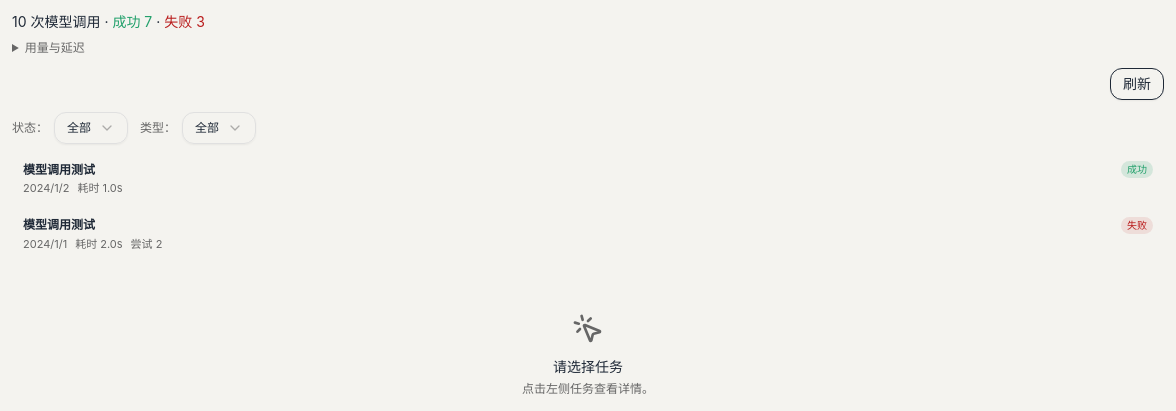
三、TaskCenter 键盘导航 › 选中任务消失后列表仍有可用项
Check: the number of options with test id "task-item" is 2, box [12,152,1164,206]; [12,208,1164,261]
Click the button with test id "task-refresh-btn": (1137, 84) [1110,68,1164,100]
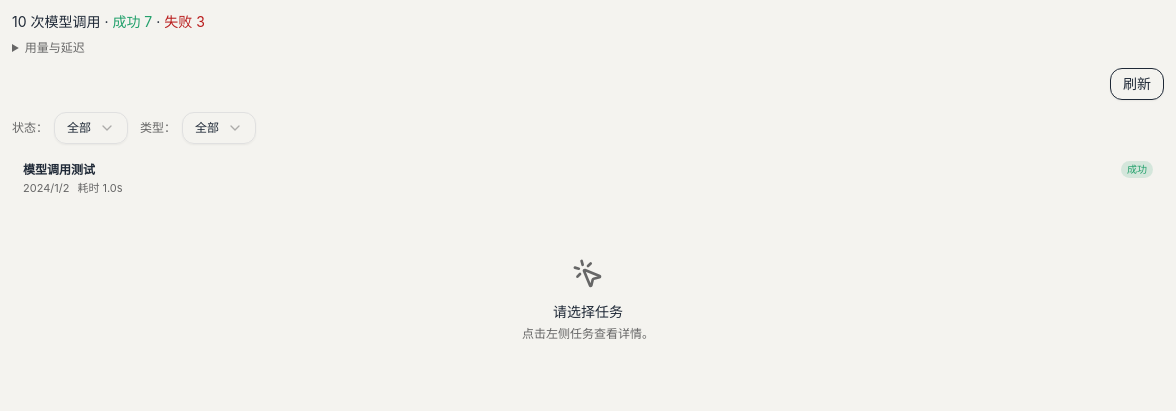
Check: the number of options with test id "task-item" is 1, box [12,152,1164,206]
